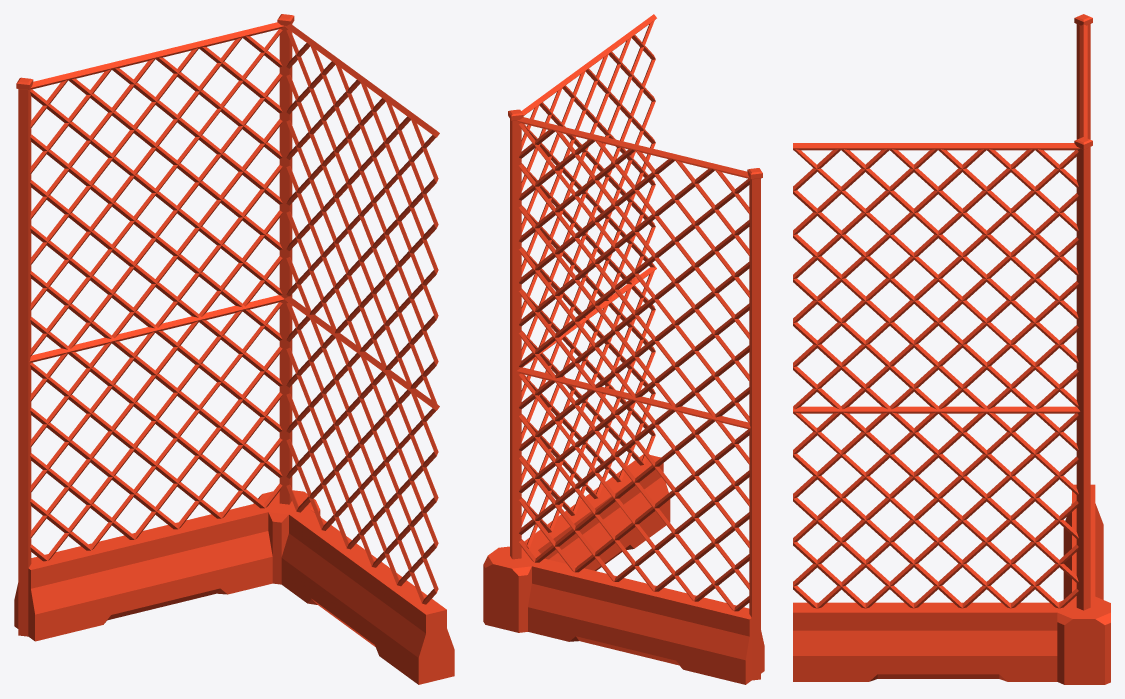
File: SM_Fence_Construction_Corner_Tall_2m_City.fbx
3 renders of one model, left to right at view 1: azimuth 30°, elevation 25°; view 2: azimuth 150°, elevation 25°; view 3: azimuth 270°, elevation 25°, orthographic. The views are drawn at different scales.
Parts seen in each view (by area): view 1: SM_Fence_Construction_Corner_Tall_2m_City; view 2: SM_Fence_Construction_Corner_Tall_2m_City; view 3: SM_Fence_Construction_Corner_Tall_2m_City.
Part boxes in pixels (box(x1,y1,x2,y2)): SM_Fence_Construction_Corner_Tall_2m_City: box(14, 14, 454, 684); SM_Fence_Construction_Corner_Tall_2m_City: box(483, 14, 764, 684); SM_Fence_Construction_Corner_Tall_2m_City: box(793, 14, 1110, 684).
Size of the model in its own units: 2.25 by 4.05 by 2.19.
